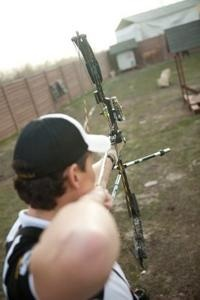person without safety: (8, 117, 139, 299)
